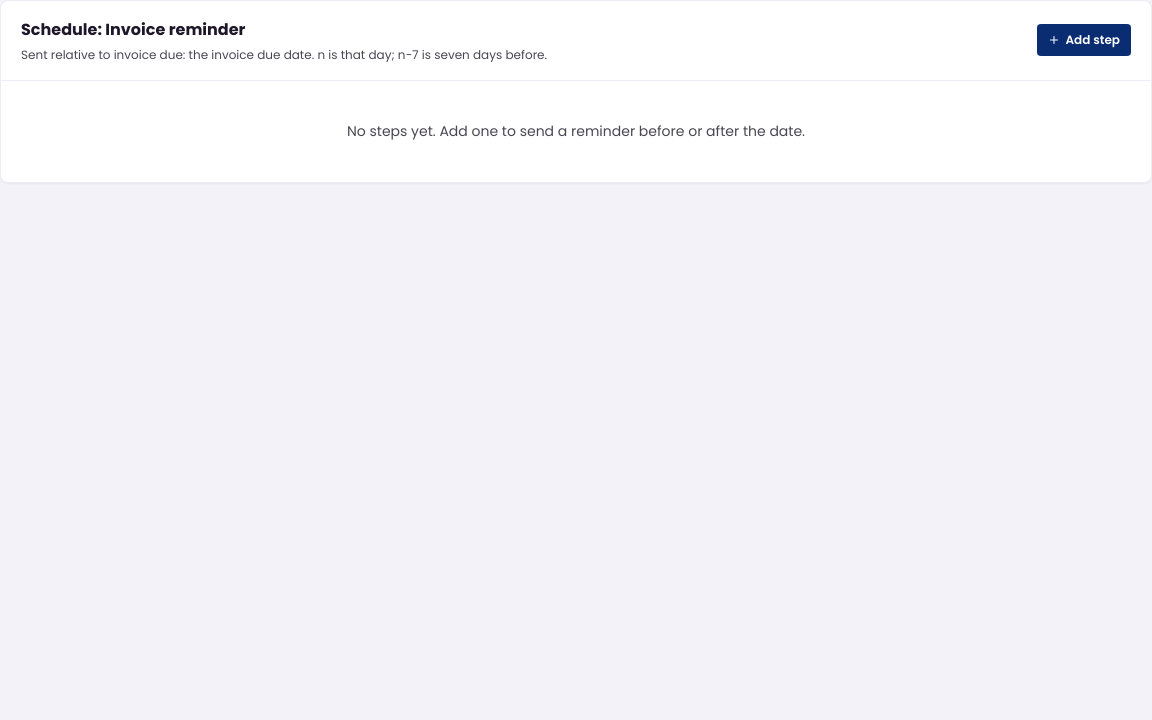
it: Schedule editor › adds a step, off, with its wording
The width and height of the screenshot is (1152, 720).
Later steps or results of the test are not shown.
Step 1. Click the button "Add step" → (1084, 40), box top-left (1036, 24), bottom-right (1131, 56)
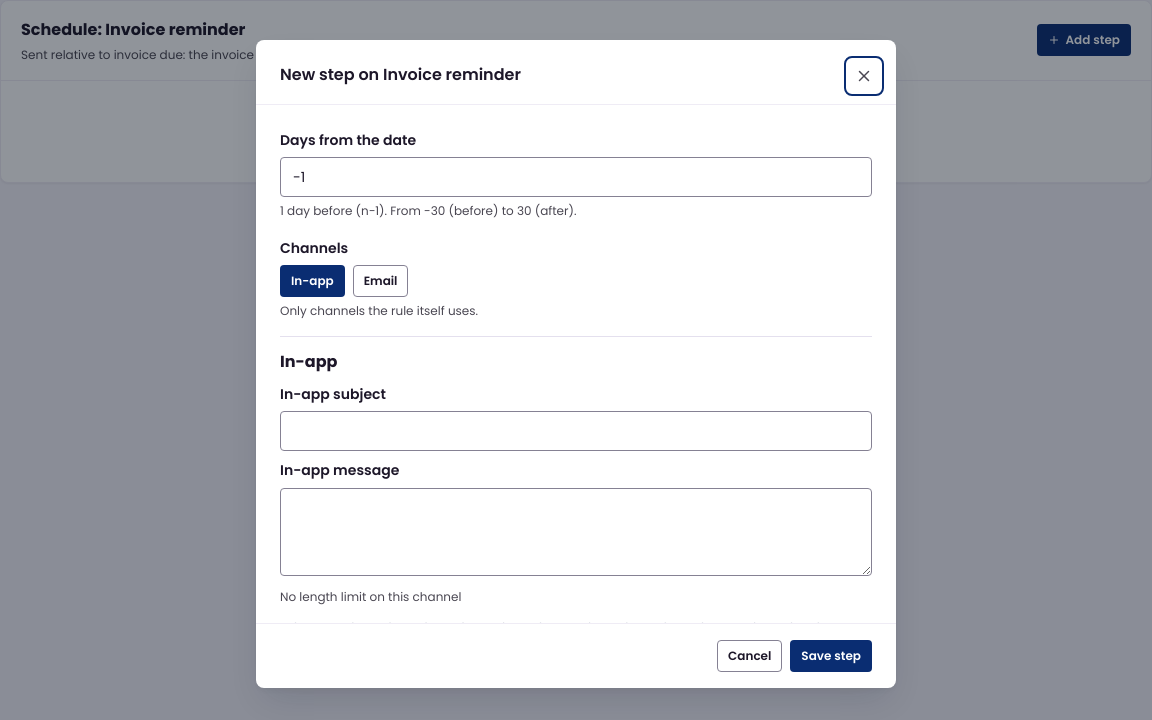
Step 2. Replace the text in the number field with "-3" → (576, 177), box top-left (280, 157), bottom-right (872, 197)
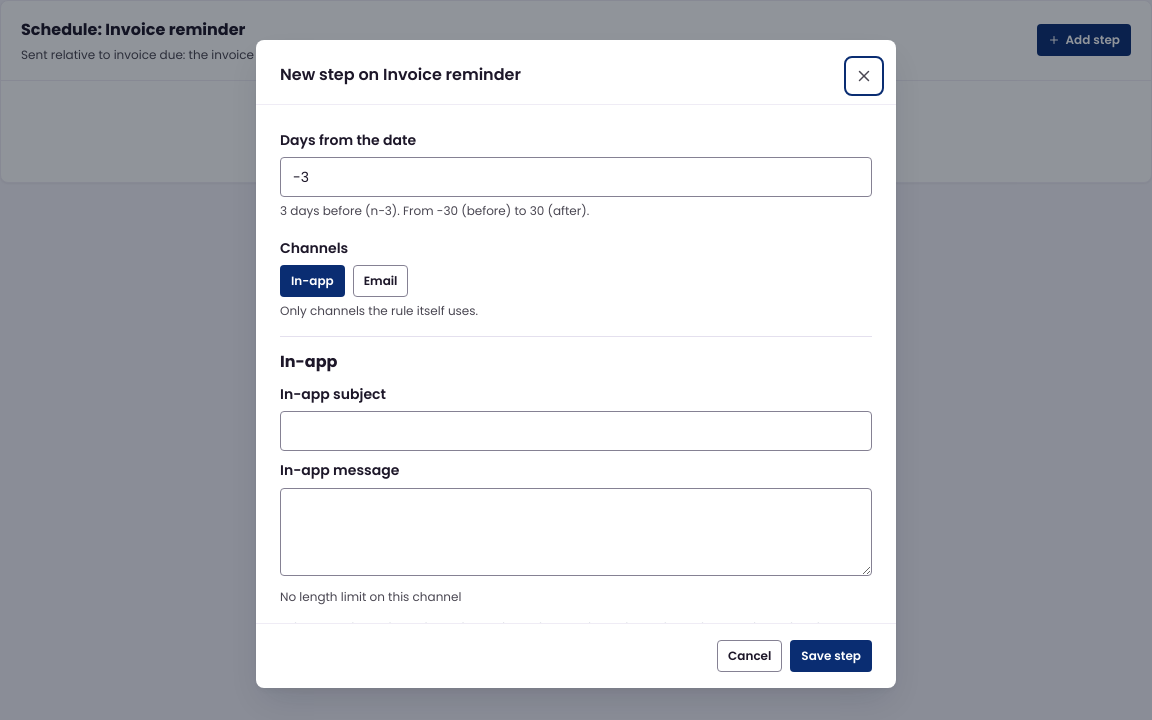
expect the text "3 days before (n−3). From -30 (before) to 30 (after)." is shown: met, box top-left (280, 202), bottom-right (589, 219)
